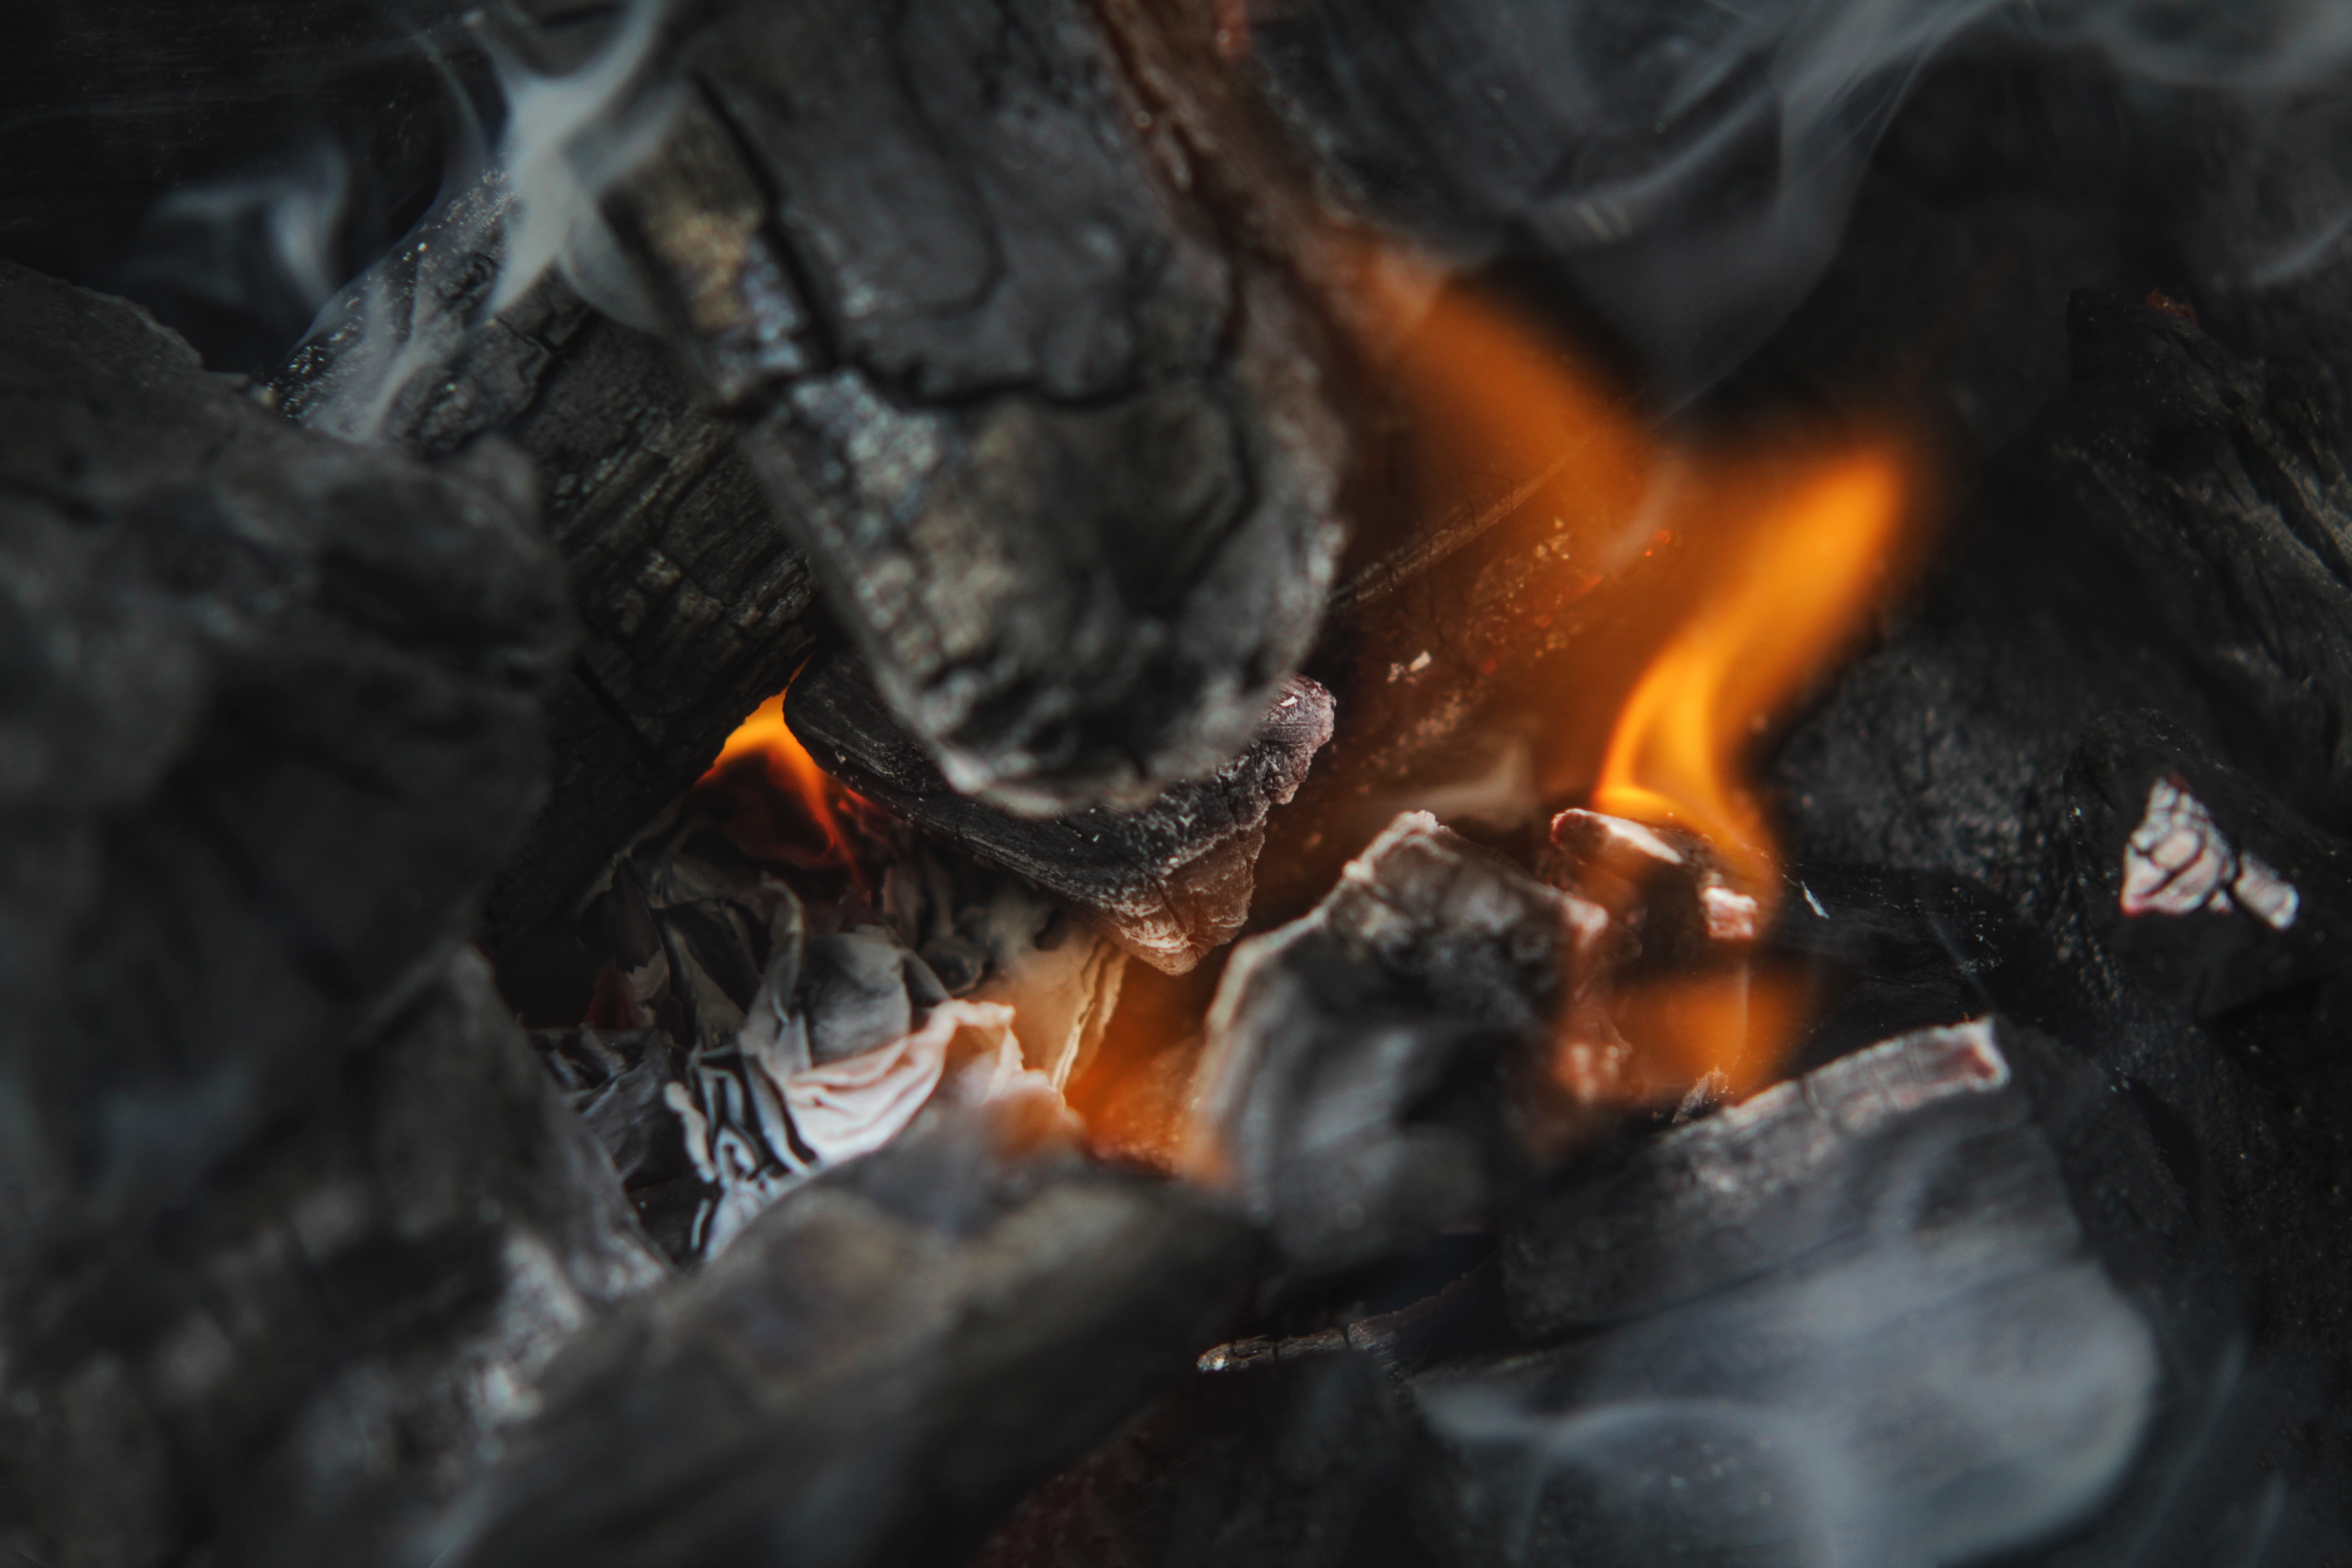fire: (1319, 212, 1925, 1034), (700, 684, 870, 854)
